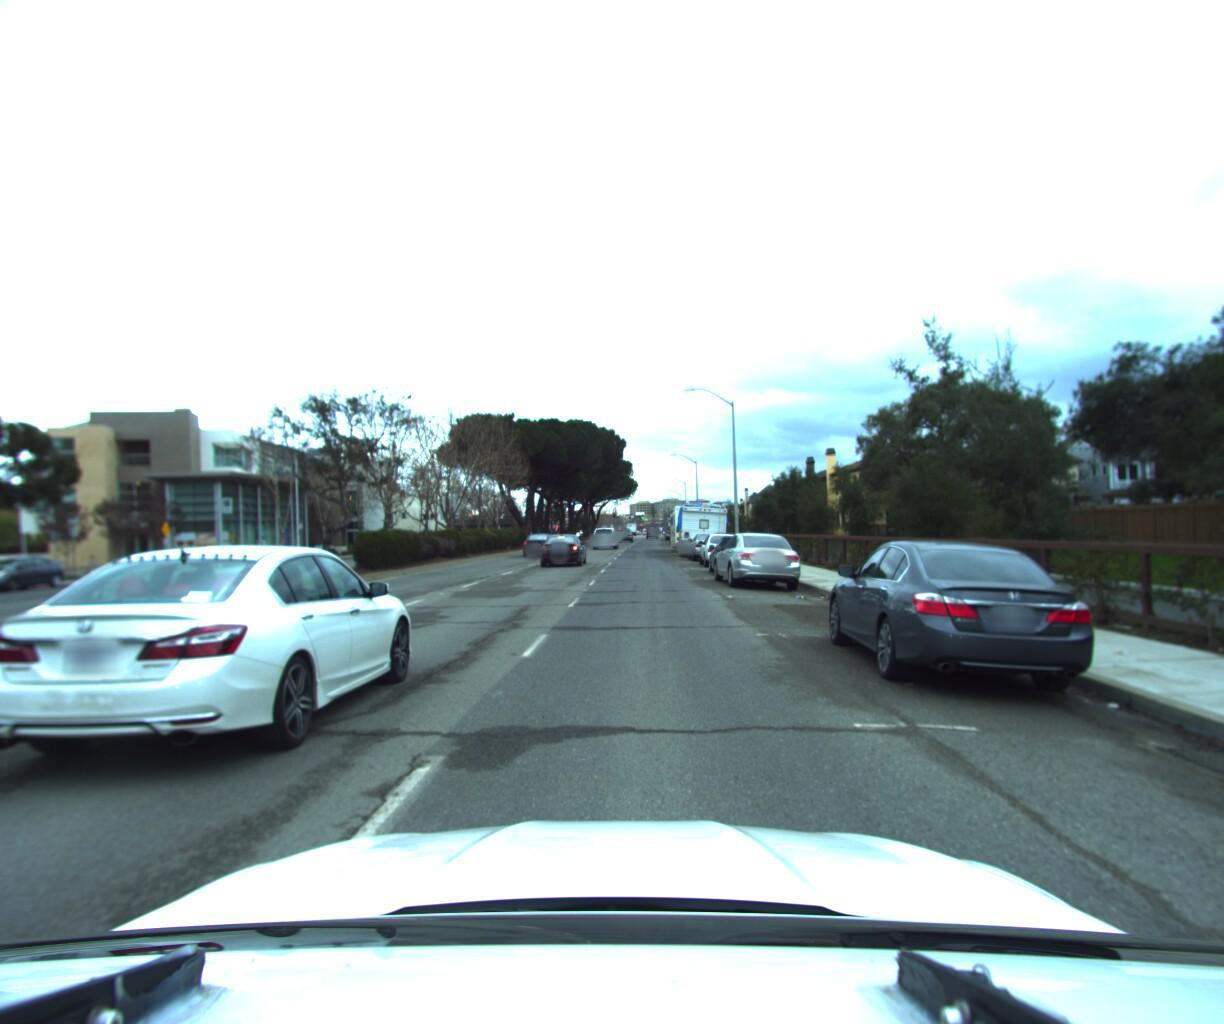car: (0, 537, 425, 808), (815, 530, 1124, 718), (707, 527, 804, 590), (0, 552, 73, 599), (702, 530, 775, 576), (697, 527, 752, 567), (537, 528, 589, 566), (687, 528, 731, 560), (298, 541, 342, 563), (517, 528, 553, 555), (592, 524, 617, 544)
other_vehicle: (674, 500, 729, 557), (670, 500, 721, 550)
